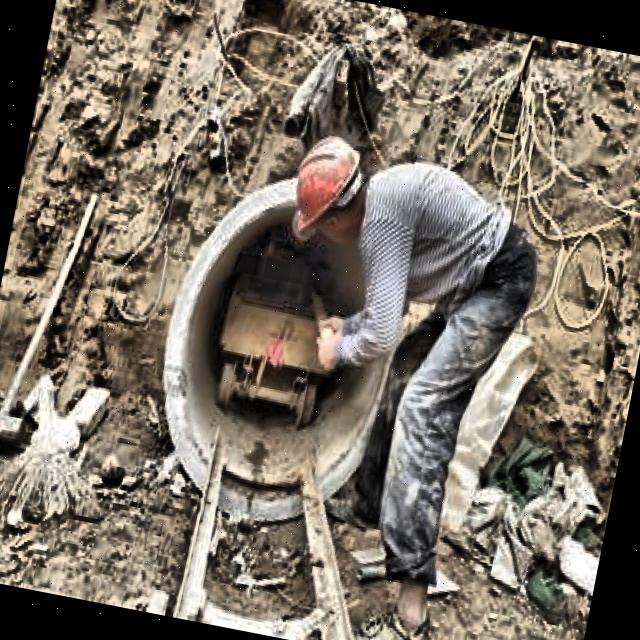helmet: (276, 120, 384, 262)
